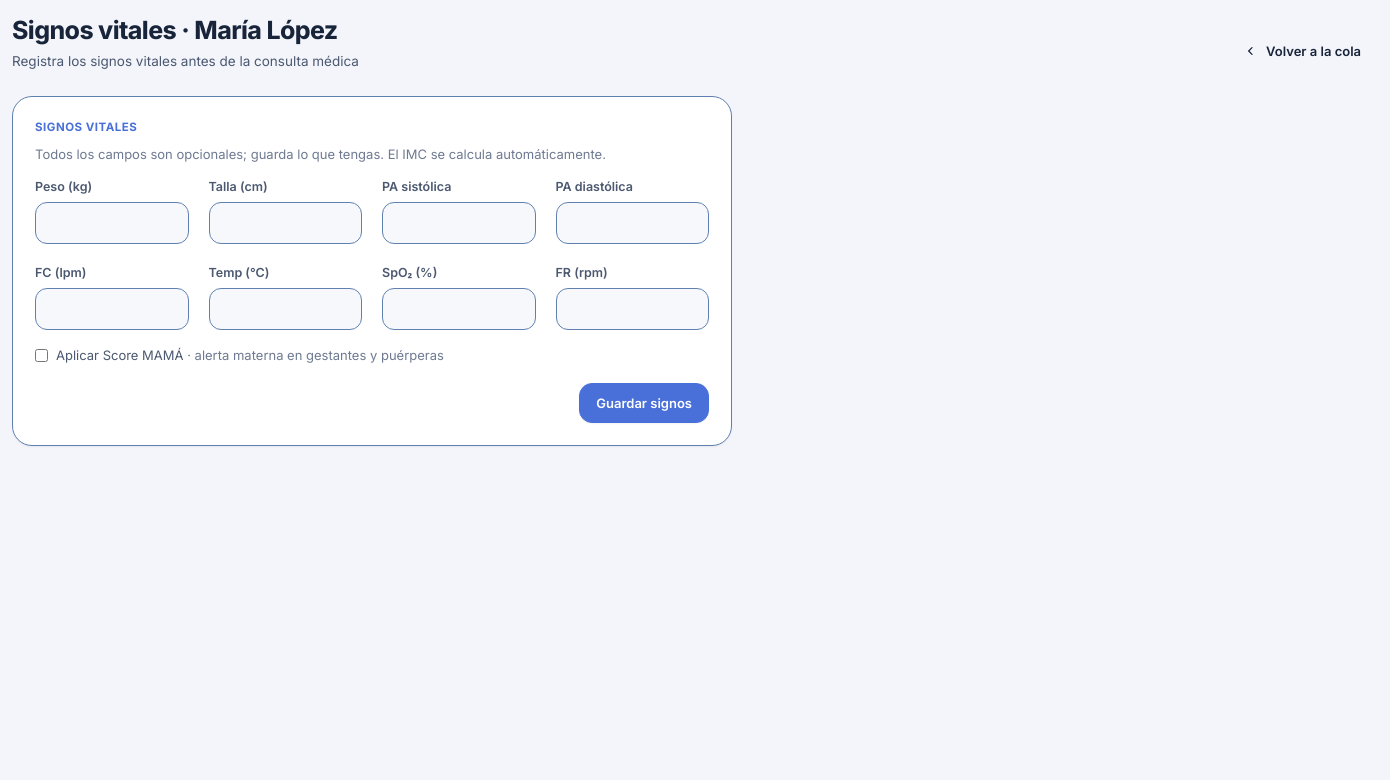
it: TriagePage › restores the saved Score MAMÁ fields when triage is reopened
Click the checkbox labelled "Aplicar Score MAMÁ · alerta materna en gestantes y puérperas". click: [42, 355]
box: top-left (35, 349), bottom-right (48, 362)
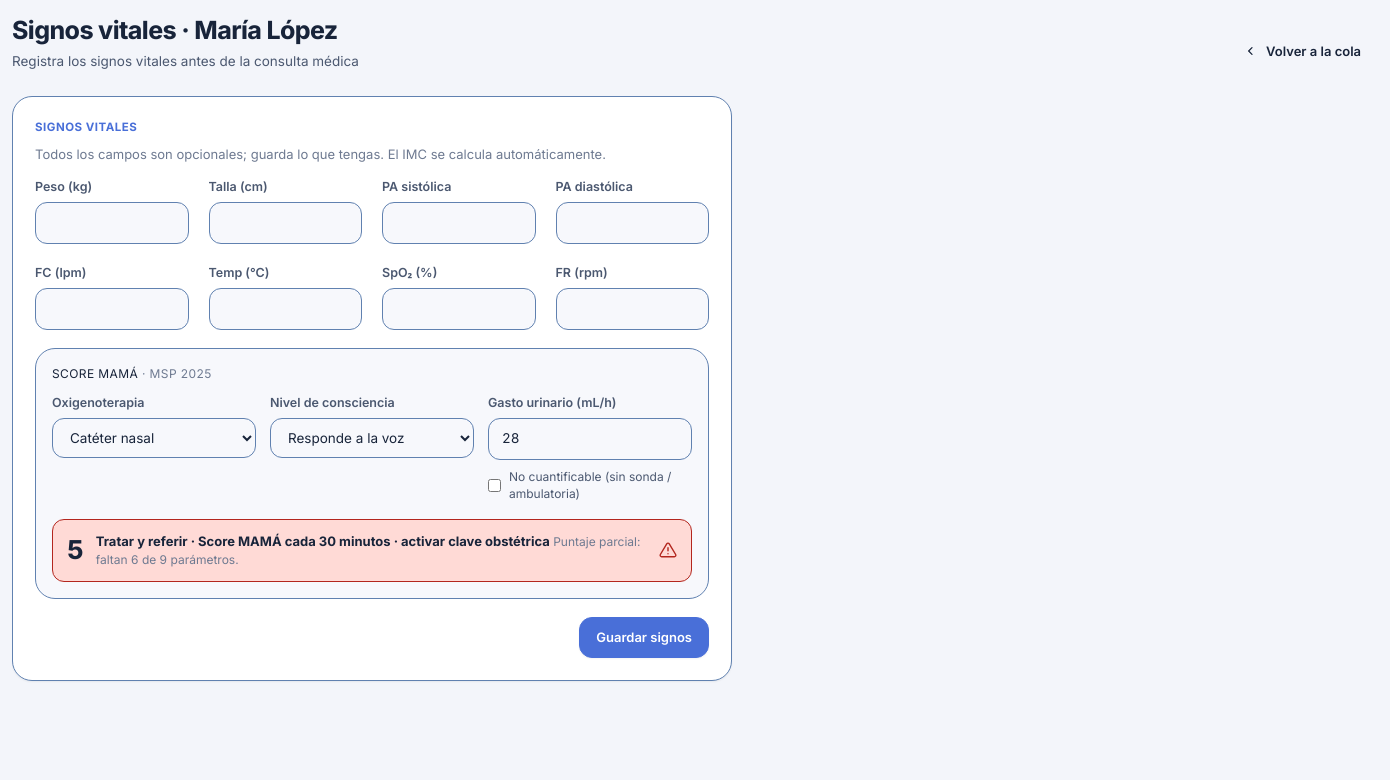
Now the dropdown labelled "Oxigenoterapia" shows "Catéter nasal", box top-left (52, 418), bottom-right (256, 458)
Now the dropdown labelled "Nivel de consciencia" shows "Responde a la voz", box top-left (270, 418), bottom-right (474, 458)
Now the field labelled "Gasto urinario (mL/h)" holds "28", box top-left (488, 418), bottom-right (692, 460)
